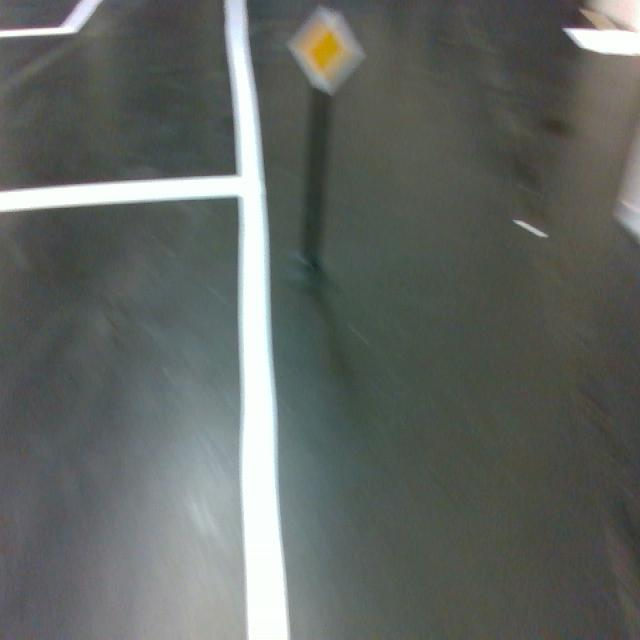priority-sign: (285, 5, 368, 97)
